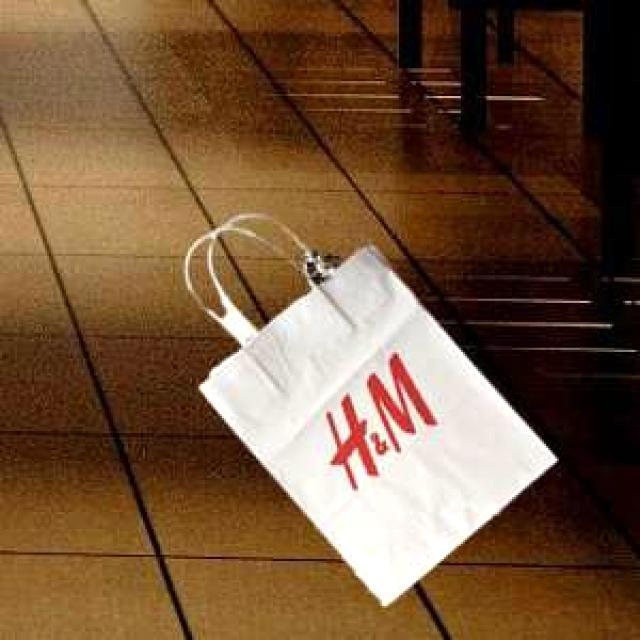Paper_Bag: (182, 220, 554, 602)
